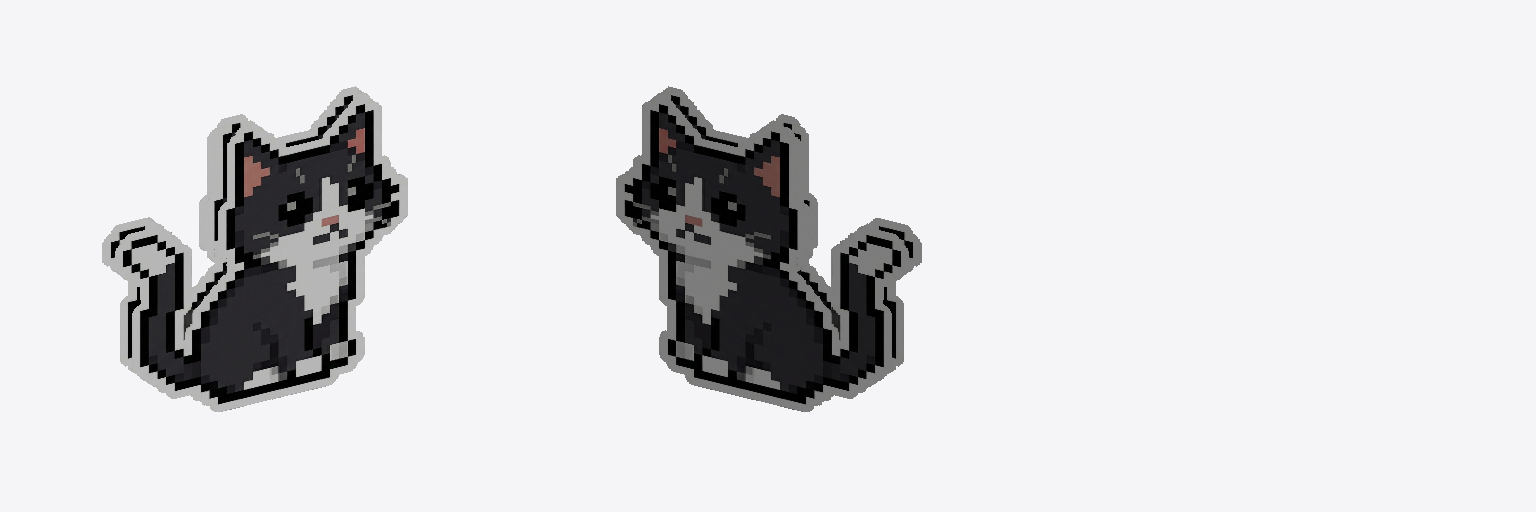
The picture shows the model from 3 angles: view 1: azimuth 30°, elevation 25°; view 2: azimuth 150°, elevation 25°; view 3: azimuth 270°, elevation 25°; orthographic projection.
Visible parts, largest first — view 1: cat3; view 2: cat3; view 3: none.
Boxes of the visible parts, x1,y1,x2,y2 form: cat3: [102, 86, 407, 411]; cat3: [616, 86, 921, 411].
Size of the model in its own units: 1.12 by 1 by 0.0775.
Materials: 2 (2 with a texture image).